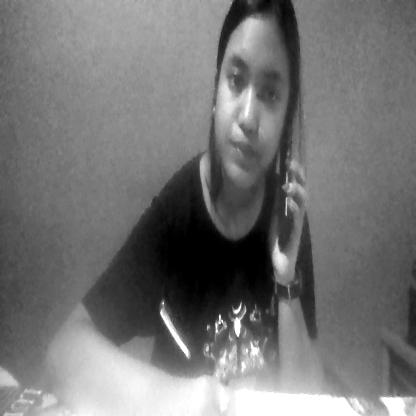Normal: (216, 21, 279, 185)
